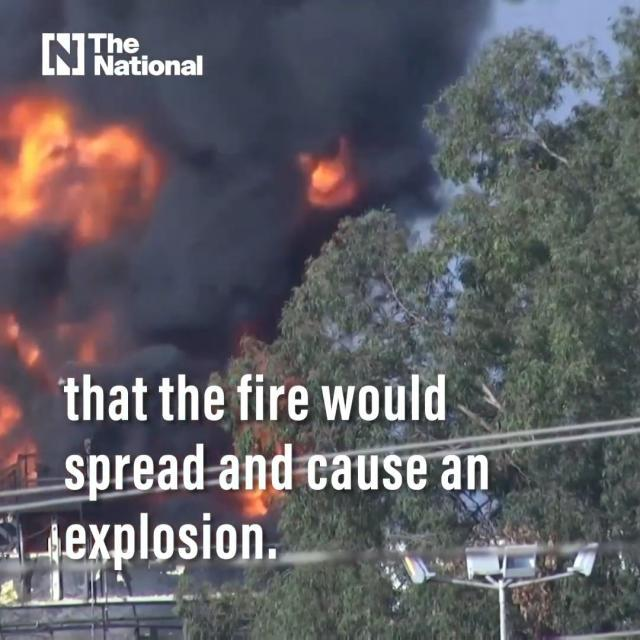Fire: (6, 93, 153, 252), (283, 145, 360, 199)
Smoke: (213, 11, 437, 210), (127, 83, 292, 301), (0, 238, 256, 373)
